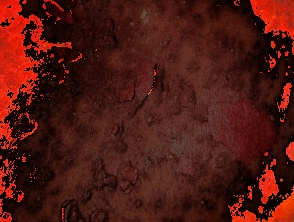SJS-TEN: (11, 0, 280, 222)
